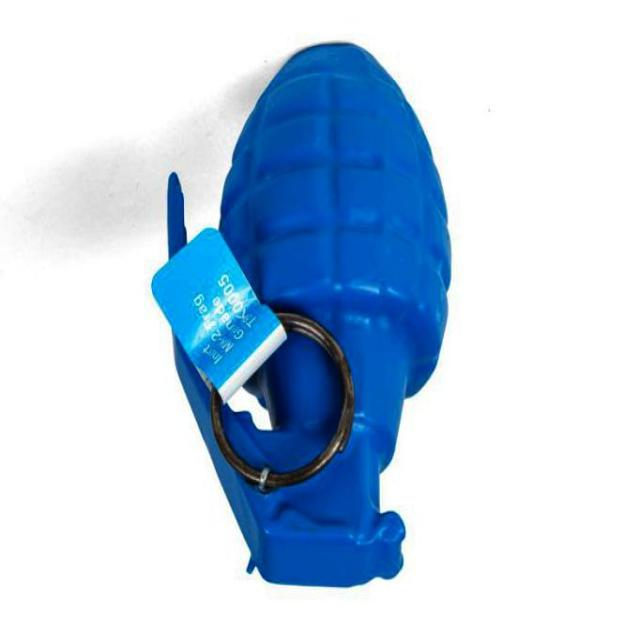grenade: (168, 44, 453, 590)
